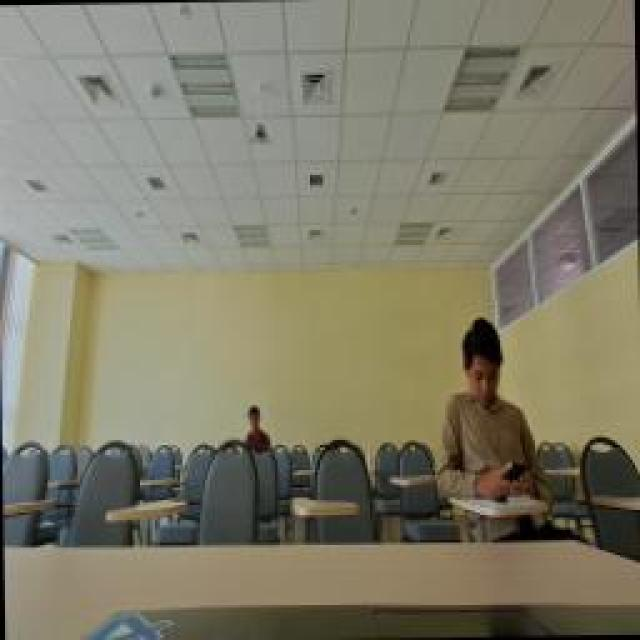phone: (435, 318, 545, 500)
study: (245, 405, 273, 457)
